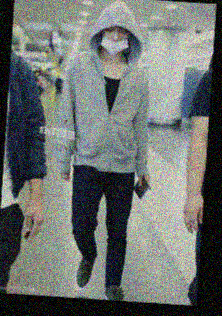mask_weared_incorrect: (99, 26, 130, 55)
